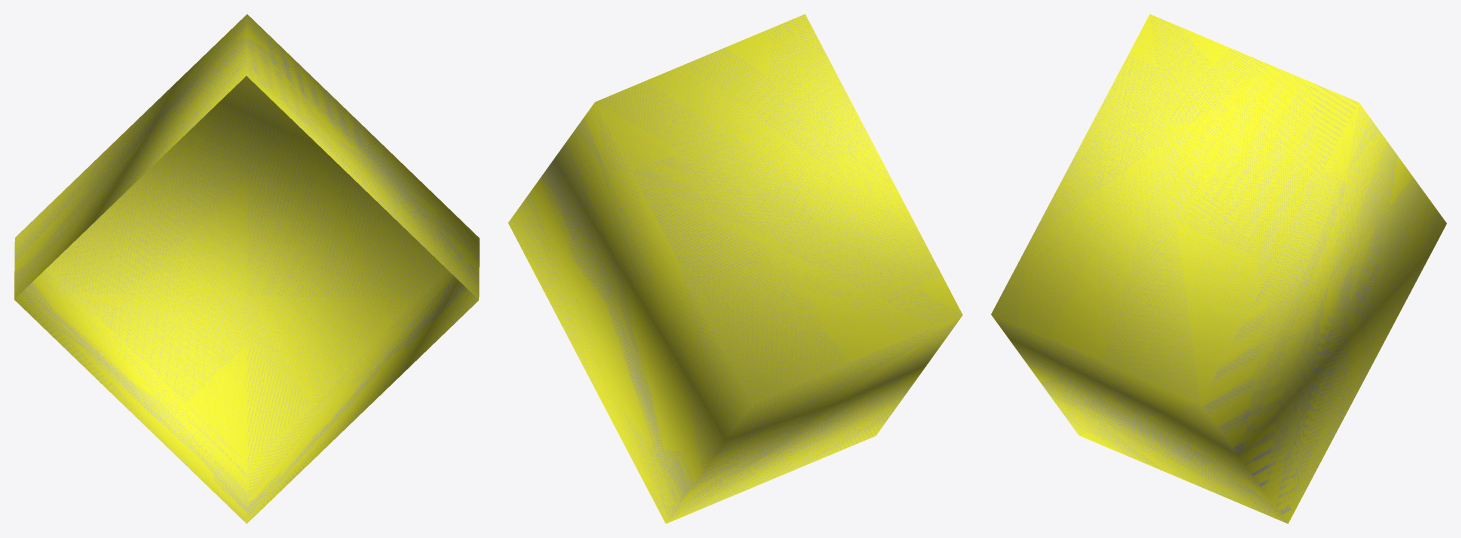
Rendered from original-7.obj.
3 views of the same model, side by side, from view 1: azimuth 30°, elevation 25°; view 2: azimuth 150°, elevation 25°; view 3: azimuth 270°, elevation 25° (orthographic). The views are drawn at different scales.
Visible parts, largest first — view 1: 3dw.d32af00b6b170bebeefb4d7820758668/Model/mesh1/mesh1-geometry/; view 2: 3dw.d32af00b6b170bebeefb4d7820758668/Model/mesh1/mesh1-geometry/; view 3: 3dw.d32af00b6b170bebeefb4d7820758668/Model/mesh1/mesh1-geometry/.
Part boxes in pixels (x1,y1,x2,y2): 3dw.d32af00b6b170bebeefb4d7820758668/Model/mesh1/mesh1-geometry/: (14, 14, 479, 523); 3dw.d32af00b6b170bebeefb4d7820758668/Model/mesh1/mesh1-geometry/: (508, 14, 962, 523); 3dw.d32af00b6b170bebeefb4d7820758668/Model/mesh1/mesh1-geometry/: (991, 14, 1446, 523).
Size of the model in its own units: 0.0892 by 0.0858 by 0.0745.
